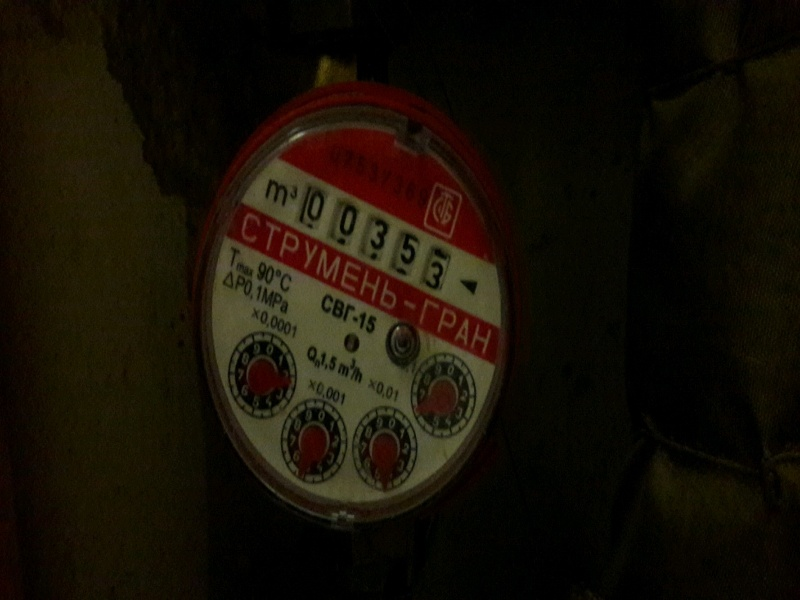meter: (297, 191, 459, 280)
